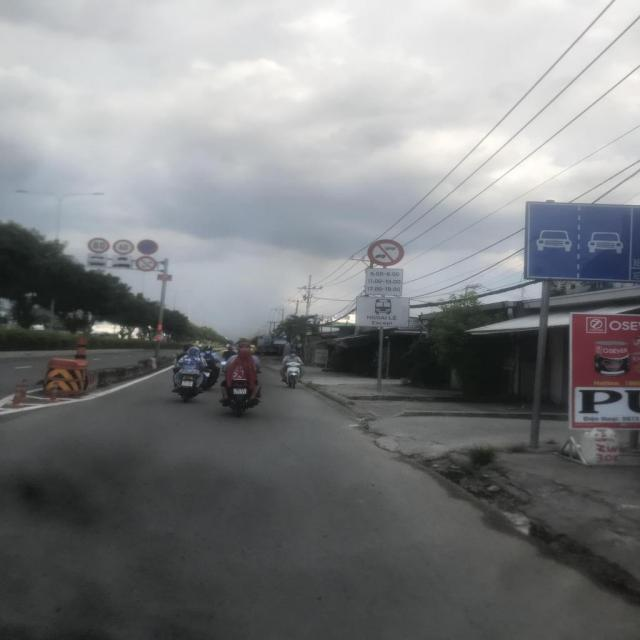107-cam-oto-khach-va-oto-tai: (367, 238, 405, 266)
127-toc-do-toi-da-60: (112, 238, 136, 254)
127-toc-do-toi-da-80: (86, 238, 110, 255)
